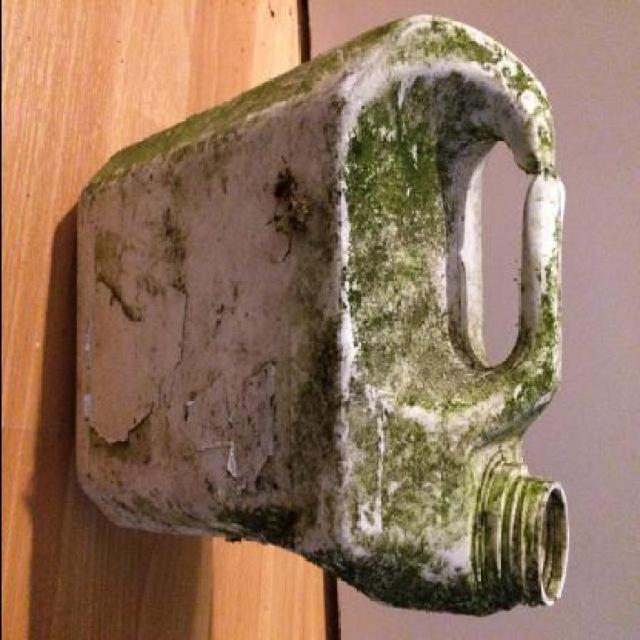plastic: (13, 67, 618, 575)
